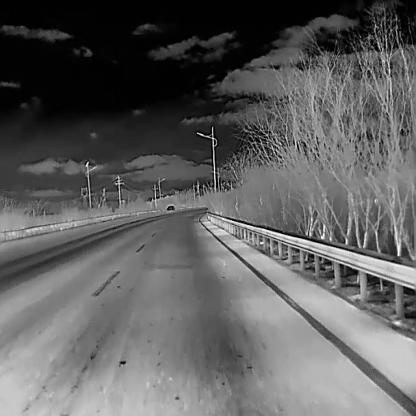car: (166, 205, 175, 210)
